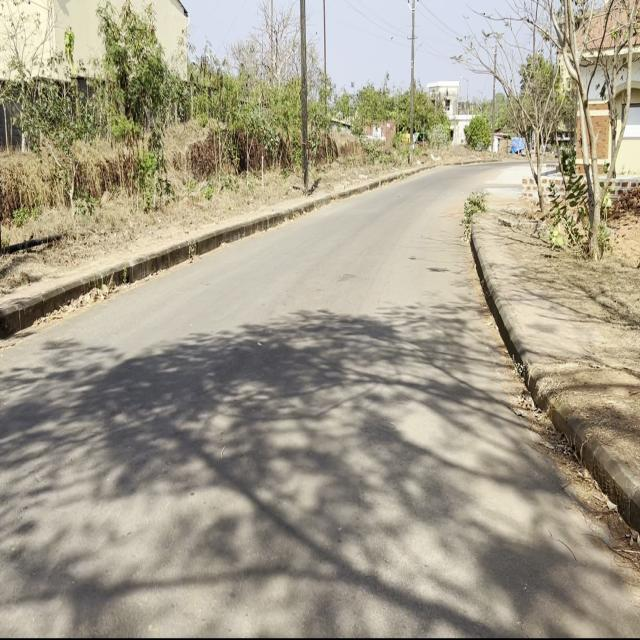Road: (0, 168, 640, 639)
